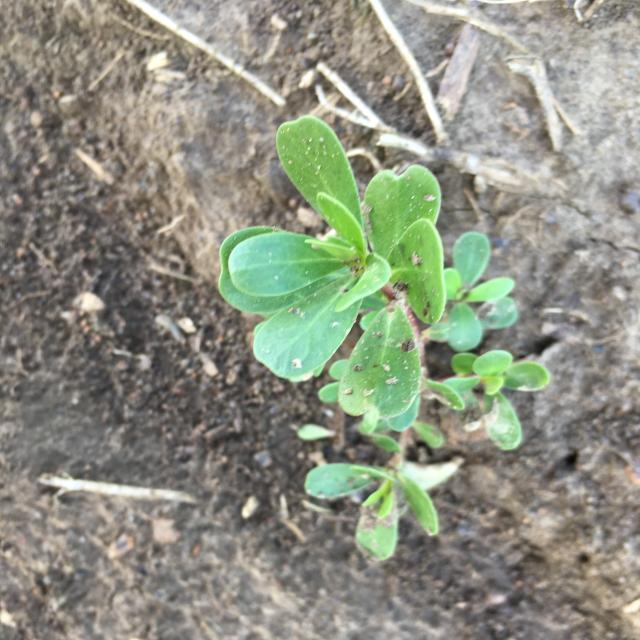Purslane: (218, 115, 550, 561)
